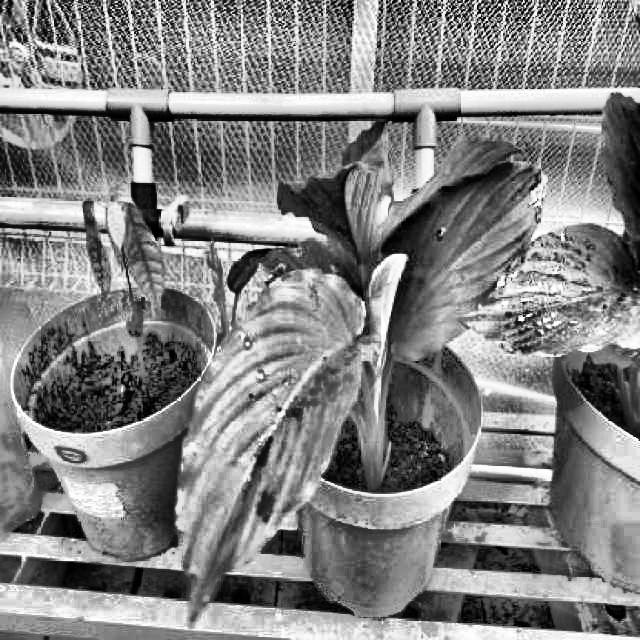plants: (168, 118, 536, 622), (455, 0, 640, 391)
